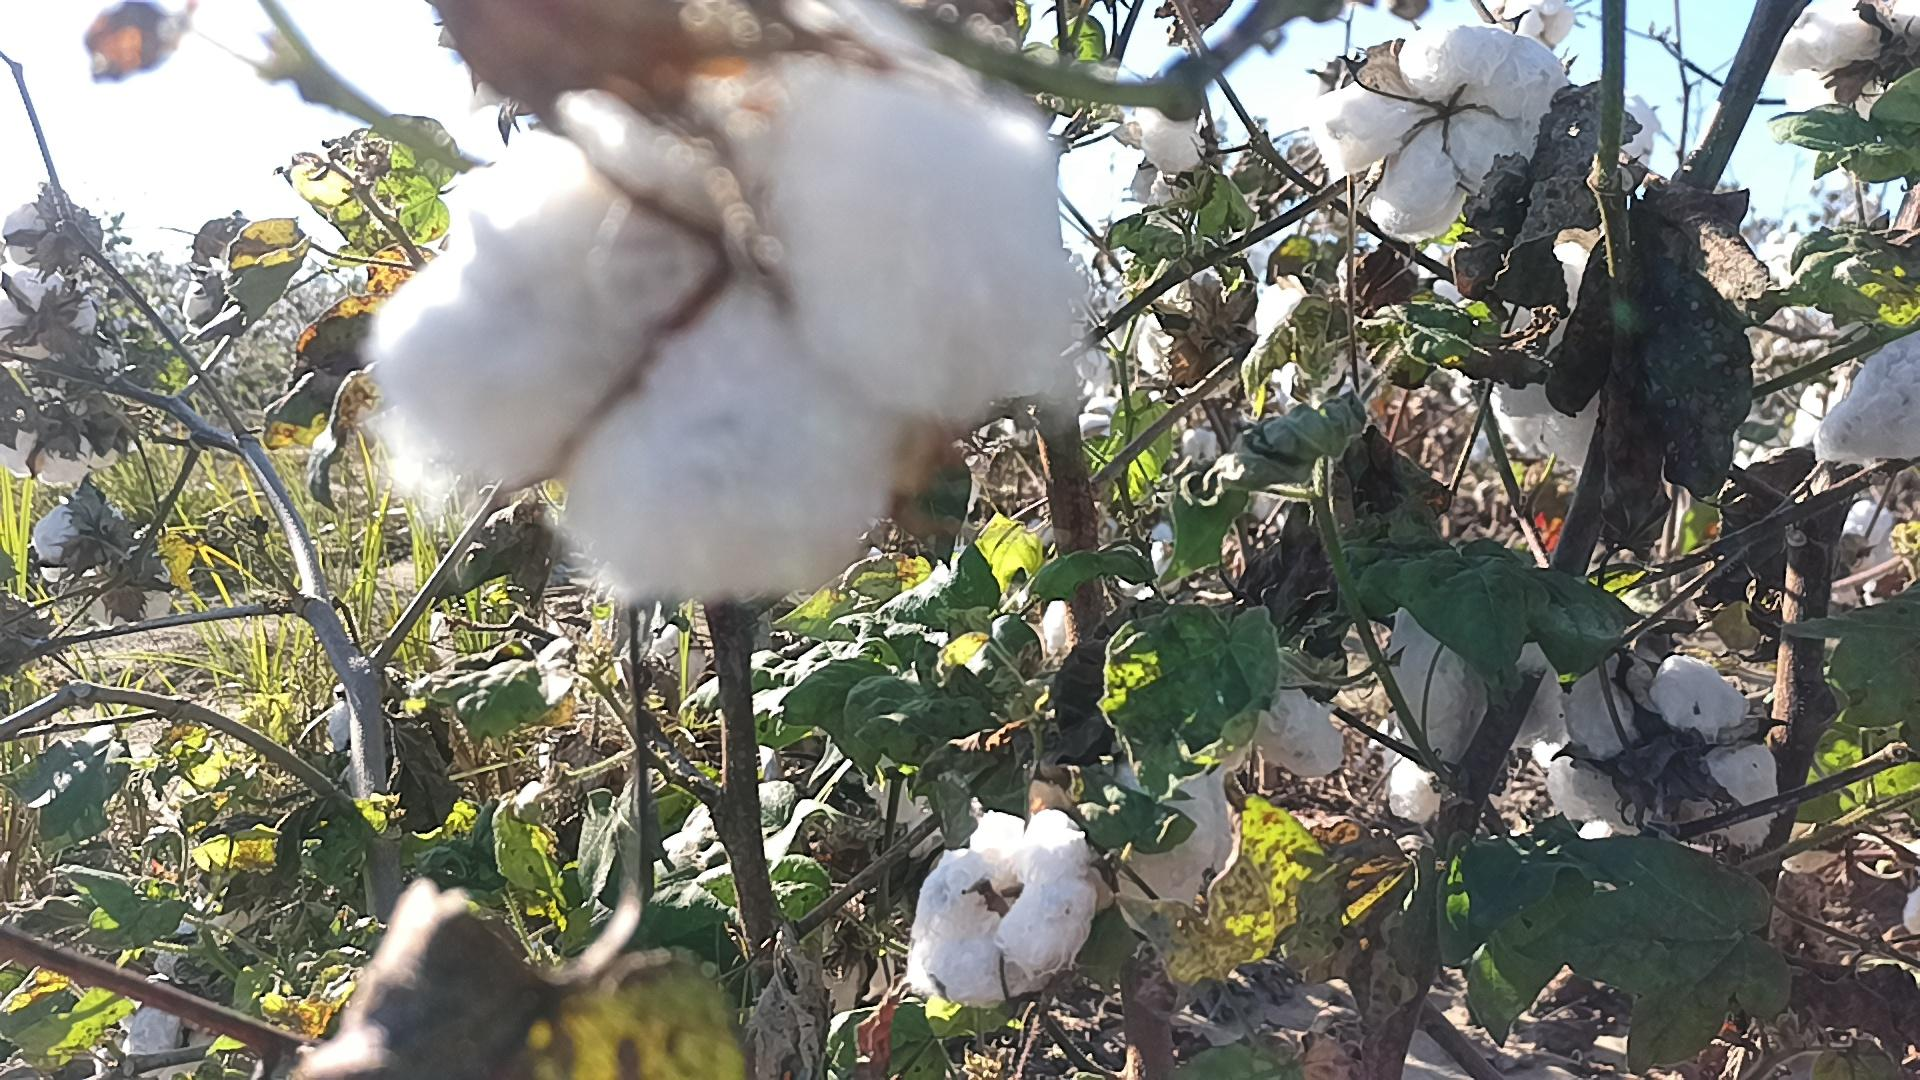cotton_ready: (369, 49, 1085, 605), (1300, 24, 1569, 243), (1548, 661, 1780, 856), (914, 807, 1096, 1006), (1383, 601, 1567, 767), (1490, 243, 1604, 458), (1117, 770, 1237, 942), (1813, 326, 1920, 465), (1779, 0, 1920, 103), (1250, 647, 1346, 773)
